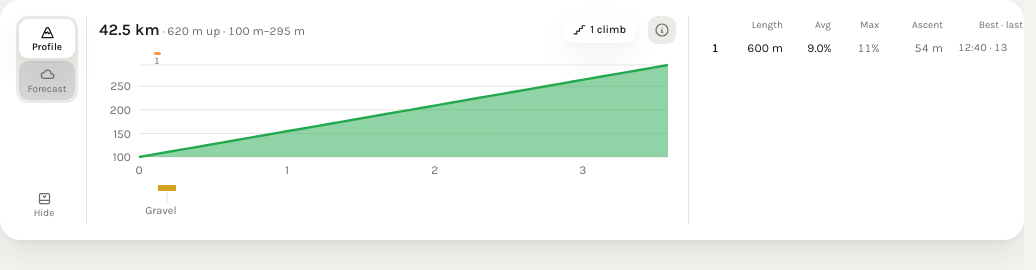
RouteDock › folds the climbs list to a chip and back
Expected: the number of list items is 1, [701, 34, 1008, 62]
What coordinates should you click on to do the following:
click the button "1 climb"
I would click on:
 (600, 30)
Its box is [563, 18, 636, 42].
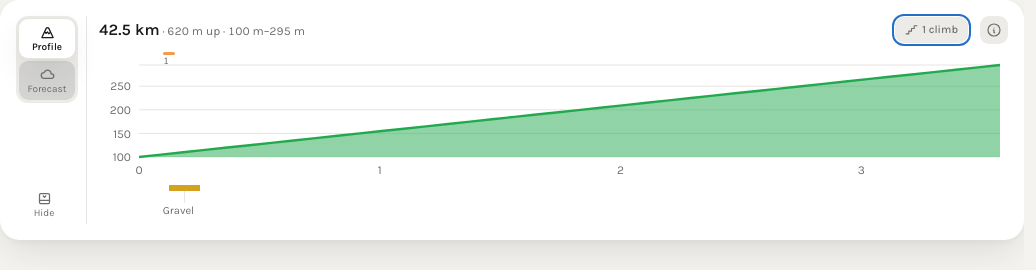
Expected: the list item "1 600 m 9.0% 11% 54 m 12:40 · 13:05" is gone
What coordinates should you click on to do the following:
click the button "1 climb"
I would click on:
 (932, 30)
Its box is [895, 18, 968, 42].
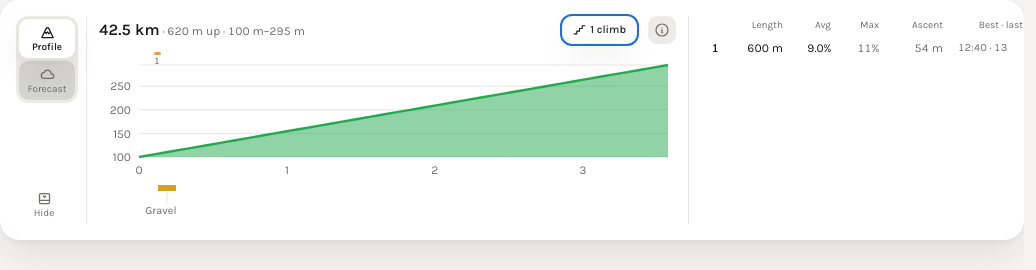
Expected: the button "1 climb" is shown, [563, 18, 636, 42]
Expected: the number of list items is 1, [701, 34, 1008, 62]
